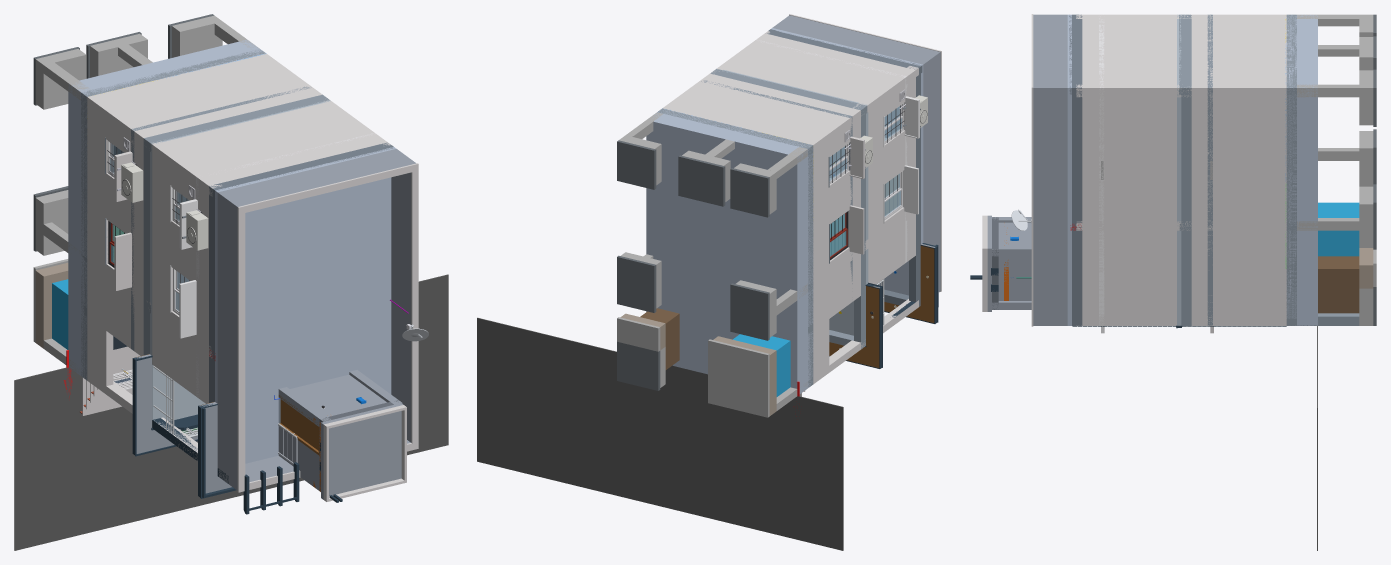
Rendered from HomeConstruction_Mobile.obj.
3 views of the same model, side by side, from view 1: azimuth 30°, elevation 25°; view 2: azimuth 150°, elevation 25°; view 3: azimuth 270°, elevation 25° (orthographic). The views are drawn at different scales.
Visible parts, largest first — view 1: Terrace_Roof_Slab__125mm_RCC_, Road_Level, Terrace_Parapet_Wall__1000mm_Masonry_, Foundation, Terrace_Parapet_Coping__Precast_Tile_, FF_Living_Room_Wall_East, FF_Bedroom_Wall_South, Bedroom_Wall_South, Living_Room_Wall_East, Headroom_Monolithic_RCC_Roof_Slab__125mm_, FF_Kitchen_Wall_South, Kitchen_Wall_South (+36 smaller); view 2: Road_Level, Foundation, Terrace_Parapet_Wall__1000mm_Masonry_, Bedroom_Wall_South, FF_Bedroom_Wall_South, PCC_Combined_Front_C6_C7, Living_Room_Wall_East, FF_Living_Room_Wall_East, Kitchen_Wall_South, FF_Kitchen_Wall_South, Kitchen_Wall_East, FF_Kitchen_Wall_East (+31 smaller); view 3: Terrace_Parapet_Wall__1000mm_Masonry_, FF_Bedroom_Wall_West, Bedroom_Wall_West, Foundation, FF_Living_Room_Wall_West, Living_Room_Wall_West, FF_Toilet_Wall_West, Toilet_Wall_West, FF_Bedroom_Wall_South, Bedroom_Wall_South, FF_Kitchen_Wall_South, Kitchen_Wall_South (+31 smaller).
Part boxes in pixels (x1,y1,x2,y2): Terrace_Roof_Slab__125mm_RCC_: (215,147,396,463); Road_Level: (14,274,448,550); Terrace_Parapet_Wall__1000mm_Masonry_: (217,149,415,490); Foundation: (68,39,264,379); Terrace_Parapet_Coping__Precast_Tile_: (237,163,418,492); FF_Living_Room_Wall_East: (152,235,208,403); FF_Bedroom_Wall_South: (223,101,385,168); Bedroom_Wall_South: (158,54,322,120); Living_Room_Wall_East: (87,188,143,355); Headroom_Monolithic_RCC_Roof_Slab__125mm_: (321,403,403,499); FF_Kitchen_Wall_South: (152,127,278,191); Kitchen_Wall_South: (87,80,213,145); Road_Level: (477,317,843,550); Foundation: (646,109,813,393); Terrace_Parapet_Wall__1000mm_Masonry_: (772,15,940,292); Bedroom_Wall_South: (663,74,800,130); FF_Bedroom_Wall_South: (721,34,855,90); PCC_Combined_Front_C6_C7: (708,339,769,417); Living_Room_Wall_East: (813,187,860,330); FF_Living_Room_Wall_East: (868,147,915,284); Kitchen_Wall_South: (754,96,860,150); FF_Kitchen_Wall_South: (809,55,914,104); Kitchen_Wall_East: (813,110,860,221); FF_Kitchen_Wall_East: (863,72,915,180); Terrace_Parapet_Wall__1000mm_Masonry_: (1033,14,1067,325); FF_Bedroom_Wall_West: (1082,85,1176,183); Bedroom_Wall_West: (1191,85,1286,183); Foundation: (1286,14,1317,325); FF_Living_Room_Wall_West: (1082,183,1176,272); Living_Room_Wall_West: (1191,183,1286,272); FF_Toilet_Wall_West: (1082,272,1176,325); Toilet_Wall_West: (1191,272,1286,325); FF_Bedroom_Wall_South: (1082,43,1176,94); Bedroom_Wall_South: (1191,43,1286,94); FF_Kitchen_Wall_South: (1082,14,1176,43); Kitchen_Wall_South: (1191,14,1286,43).
Bounding box in the file's own units: 12192 × 12207 × 11785.
